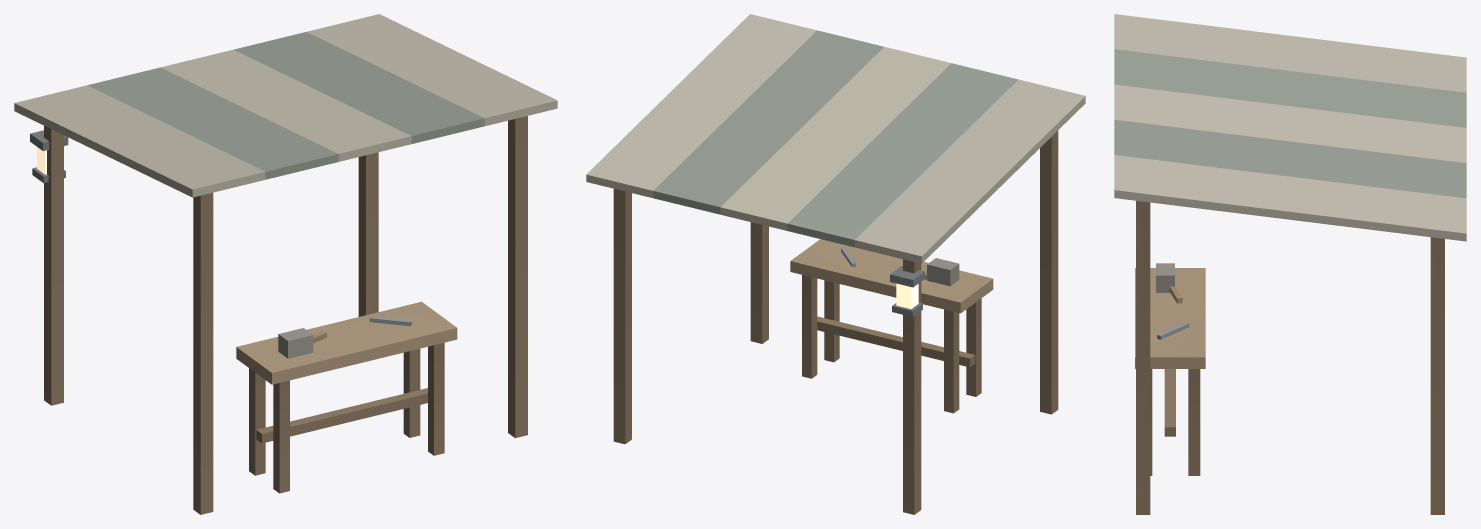
Rendered from work_tent_low.glb.
3 views of the same model, side by side, from view 1: azimuth 30°, elevation 25°; view 2: azimuth 150°, elevation 25°; view 3: azimuth 270°, elevation 25° (orthographic). The views are drawn at different scales.
Parts seen in each view (by area): view 1: work_tent; view 2: work_tent; view 3: work_tent.
Boxes of the visible parts, <box> form: work_tent: <box>14,14,557,514</box>; work_tent: <box>586,14,1085,514</box>; work_tent: <box>1114,14,1466,514</box>.
Size of the model in its own units: 2.6 by 2.3 by 2.2.
